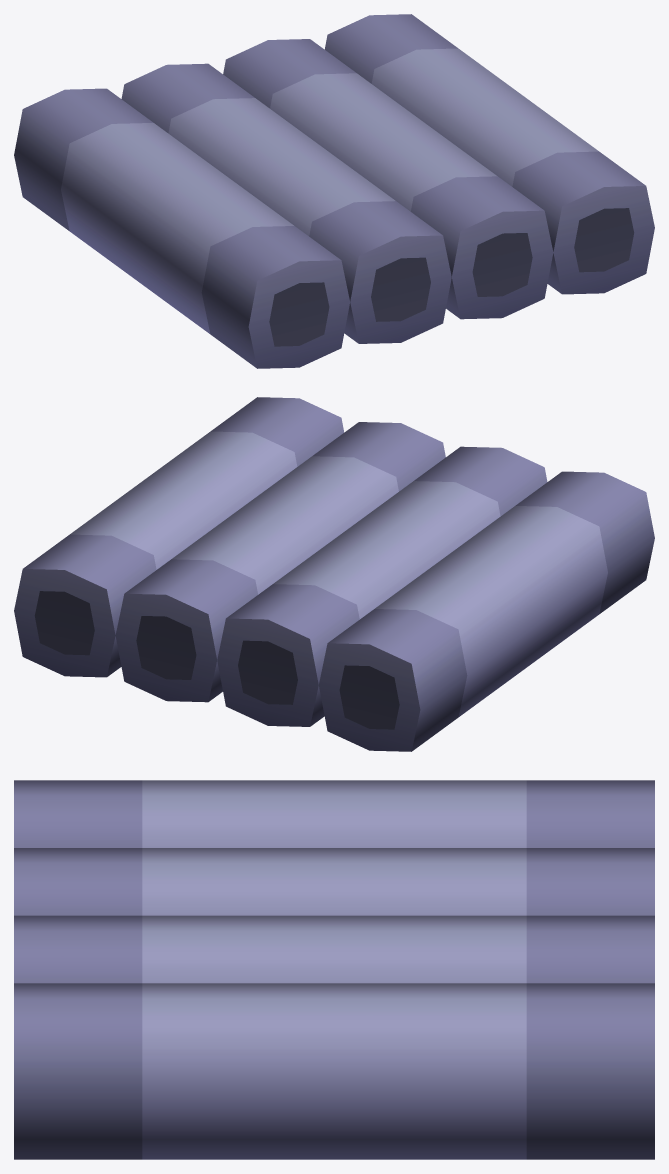
Rendered from kenney-conveyor-conveyor-bars-stripe.glb.
3 views of the same model, one above another, from view 1: azimuth 30°, elevation 25°; view 2: azimuth 150°, elevation 25°; view 3: azimuth 270°, elevation 25° (orthographic). The views are drawn at different scales.
Visible parts, largest first — view 1: conveyor-bars-stripe; view 2: conveyor-bars-stripe; view 3: conveyor-bars-stripe.
Boxes of the visible parts, bbox=[...] form: conveyor-bars-stripe: bbox=[14, 14, 654, 368]; conveyor-bars-stripe: bbox=[14, 397, 654, 751]; conveyor-bars-stripe: bbox=[14, 780, 654, 1159].
Size of the model in its own units: 1 by 0.25 by 1.
1 material, 1 textured.
